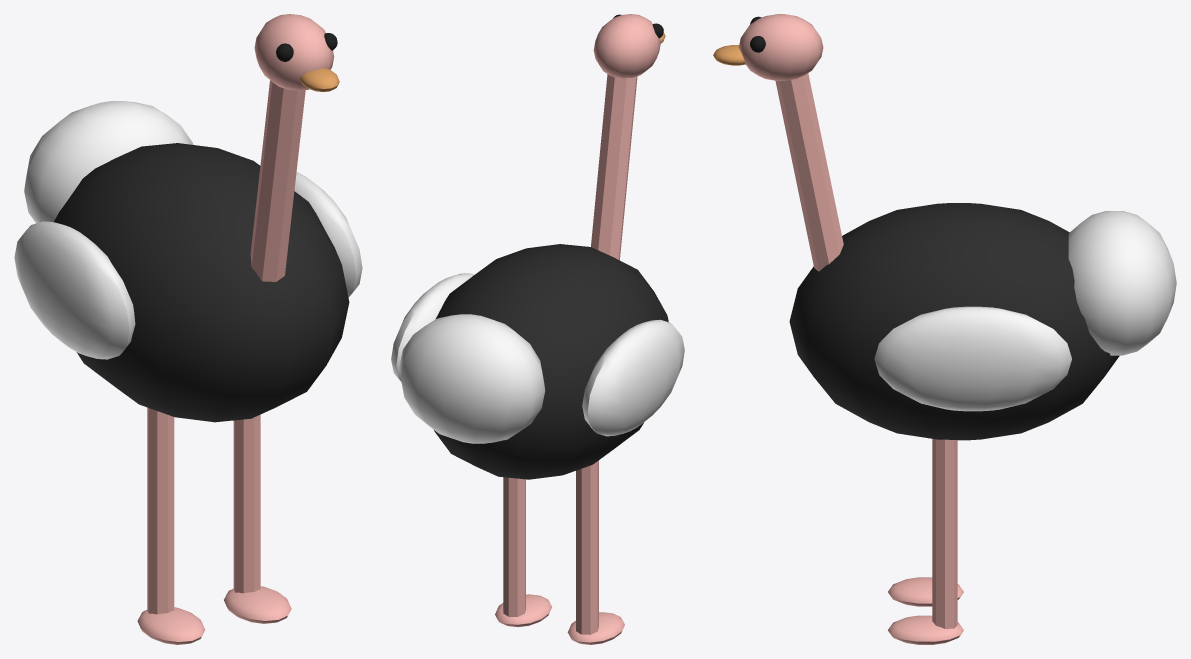
The model's file is foot_ostrich.glb.
The picture shows the model from 3 angles, left to right: view 1: azimuth 30°, elevation 25°; view 2: azimuth 150°, elevation 25°; view 3: azimuth 270°, elevation 25°; orthographic projection. The views are drawn at different scales.
Parts seen in each view (by area): view 1: Body.002, Leg_R.002, Leg_L.002; view 2: Body.002, Leg_R.002, Leg_L.002; view 3: Body.002, Leg_L.002, Leg_R.002.
Part boxes in pixels (x1=…): Body.002: x1=14, y1=14, x2=362, y2=422; Leg_R.002: x1=137, y1=407, x2=205, y2=644; Leg_L.002: x1=224, y1=414, x2=291, y2=623; Body.002: x1=391, y1=14, x2=684, y2=479; Leg_R.002: x1=567, y1=460, x2=624, y2=644; Leg_L.002: x1=495, y1=477, x2=551, y2=627; Body.002: x1=713, y1=14, x2=1176, y2=440; Leg_L.002: x1=888, y1=439, x2=963, y2=644; Leg_R.002: x1=888, y1=577, x2=963, y2=606.
Bounding box in the file's own units: 1.03 × 2.36 × 1.64.
